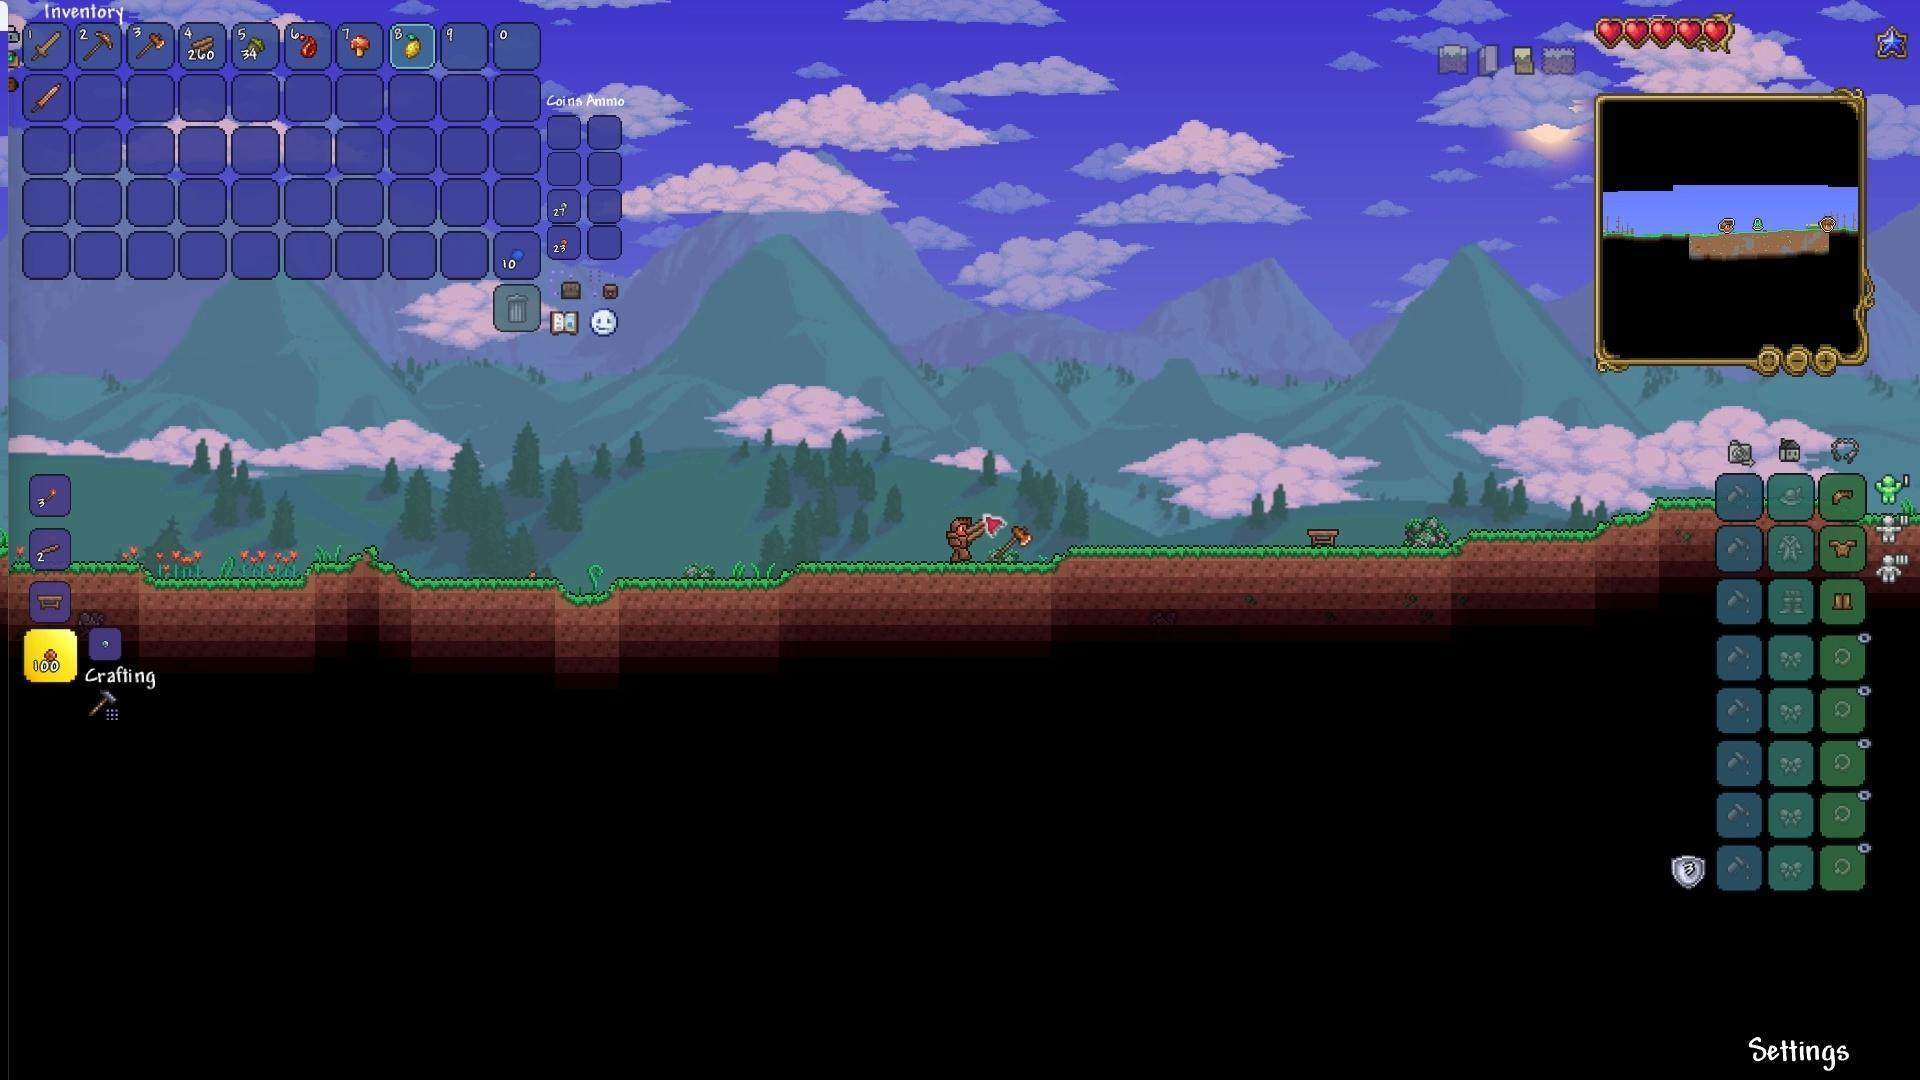dirt: (1059, 529, 1465, 576), (419, 570, 774, 611), (778, 547, 1058, 588), (1464, 512, 1597, 562), (148, 567, 301, 607), (306, 547, 413, 592), (71, 554, 142, 589), (1646, 489, 1713, 525), (1593, 500, 1639, 537)
heart: (1597, 16, 1625, 46), (1626, 18, 1652, 49), (1650, 18, 1676, 49), (1677, 18, 1704, 49), (1704, 18, 1730, 49)
